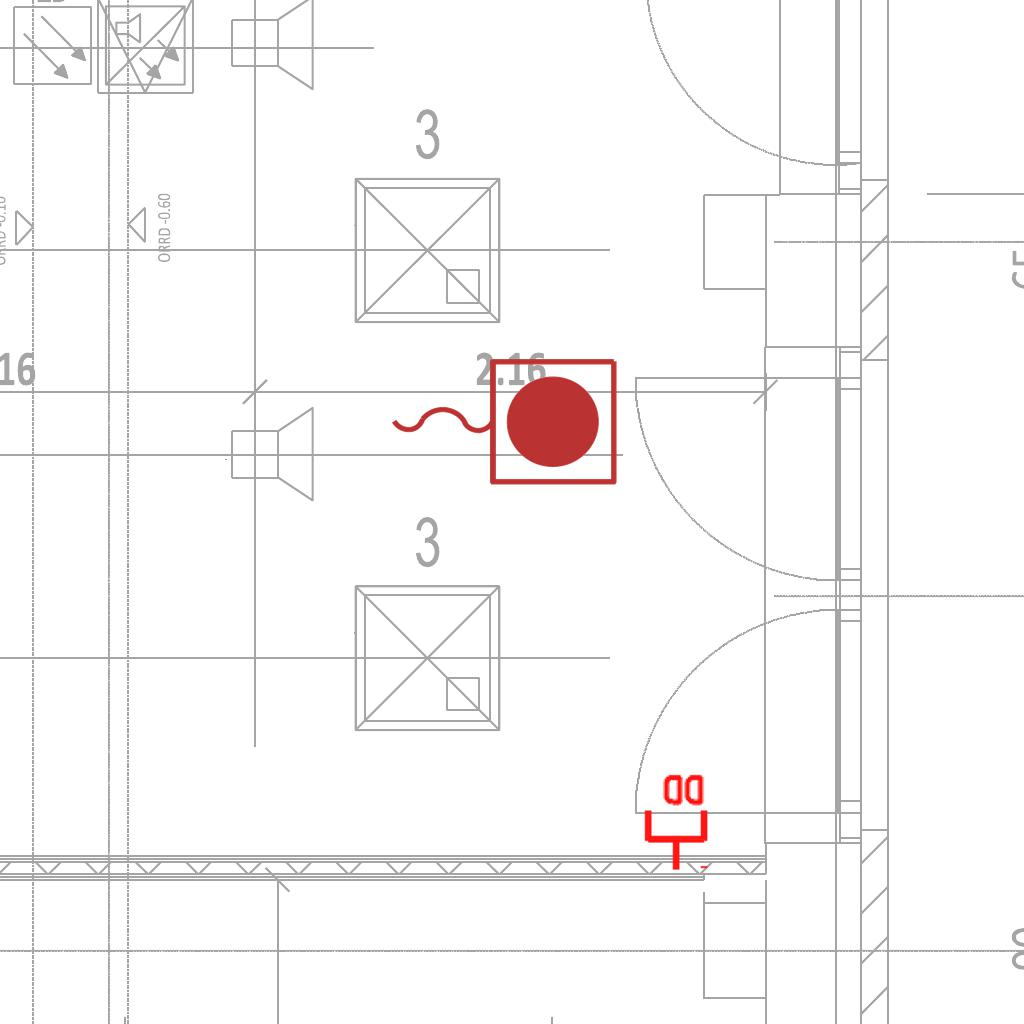Datenanschluss_zweifach: (640, 770, 709, 873)
Zugtaster: (381, 348, 625, 492)
